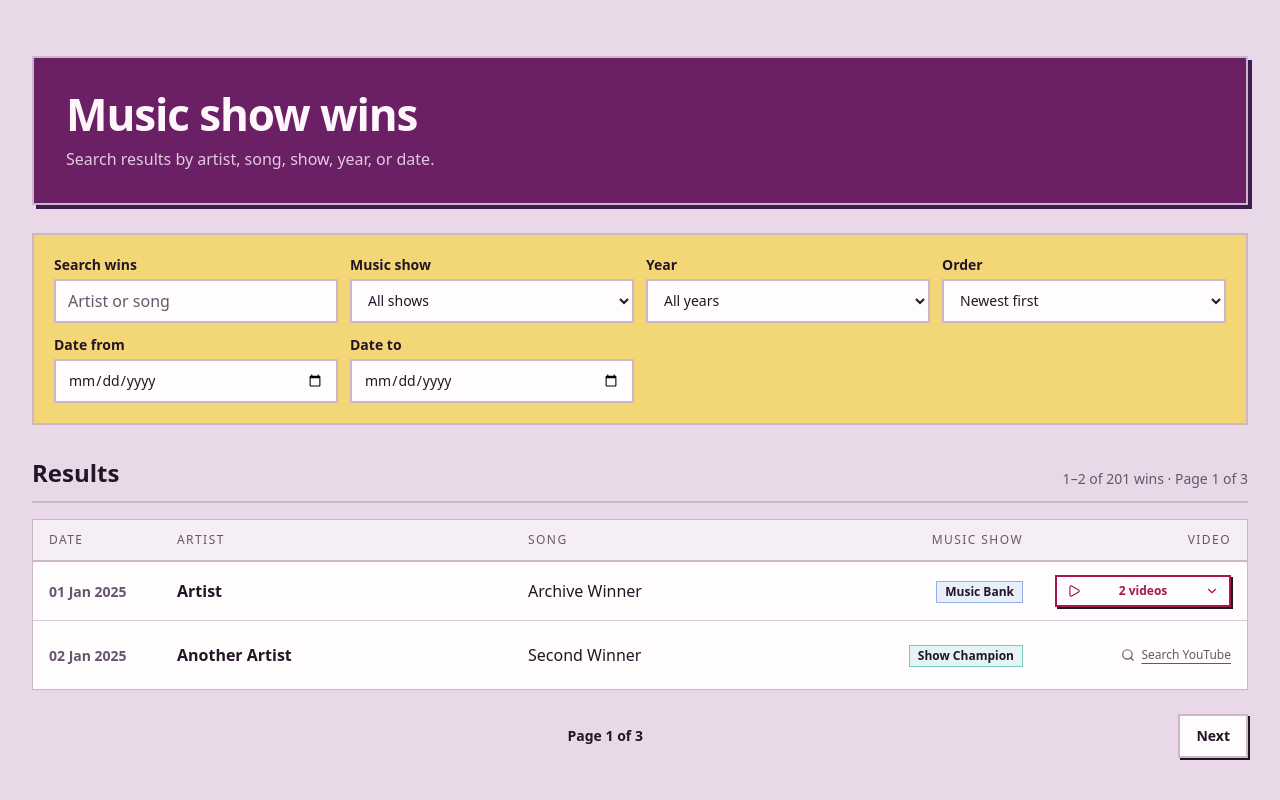
Test: WinsExplorer › expands video references beneath the same win
The image size is (1280, 800).
Click the button named "Choose from 2 videos for Archive Winner by Artist, 01 Jan 2025, Music Bank" at (1143, 591), box x1=1055 y1=575 x2=1231 y2=607
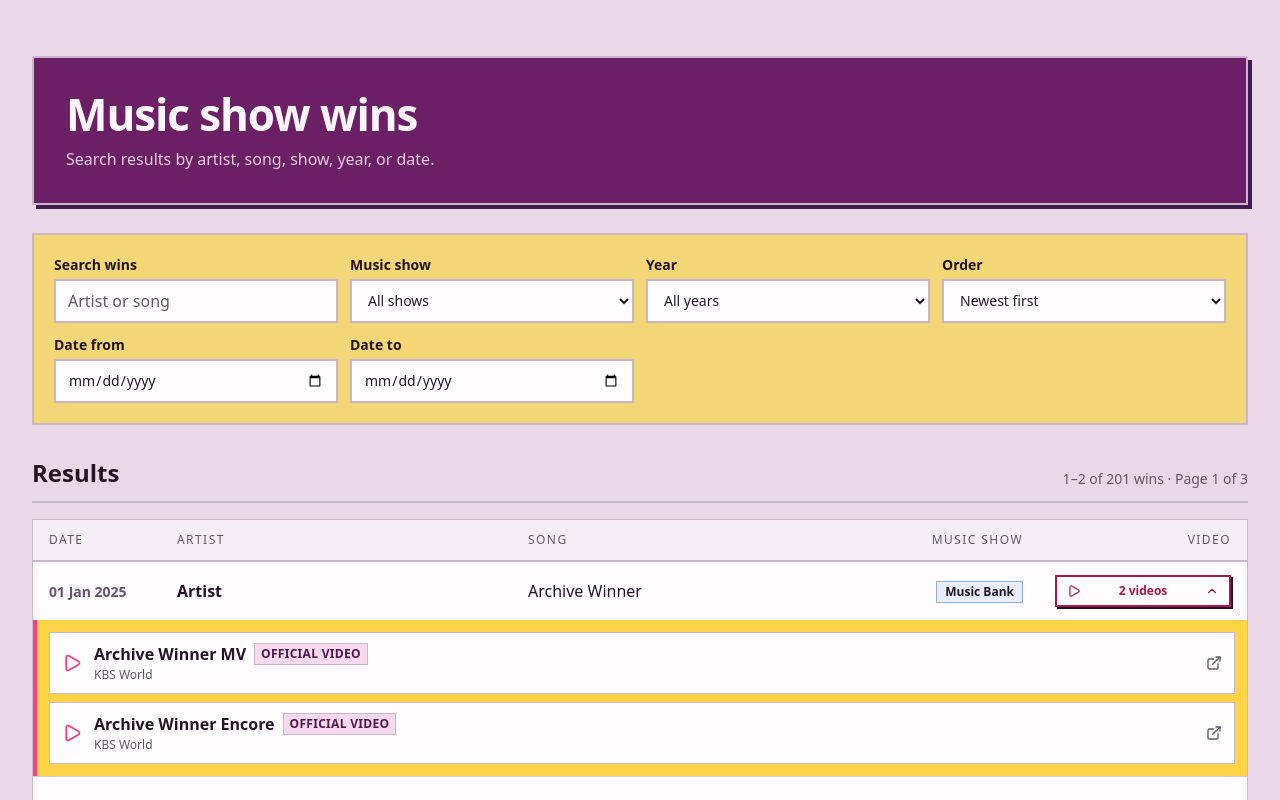
Now the button named "Choose from 2 videos for Archive Winner by Artist, 01 Jan 2025, Music Bank" is expanded, box x1=1055 y1=575 x2=1231 y2=607
